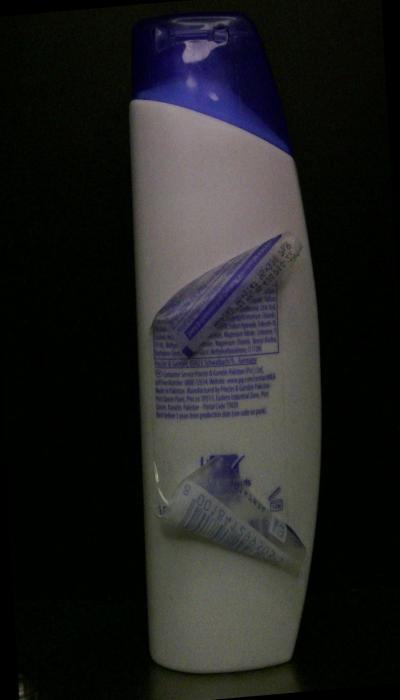adhesion_unacc: (141, 229, 314, 372), (155, 450, 312, 581)
